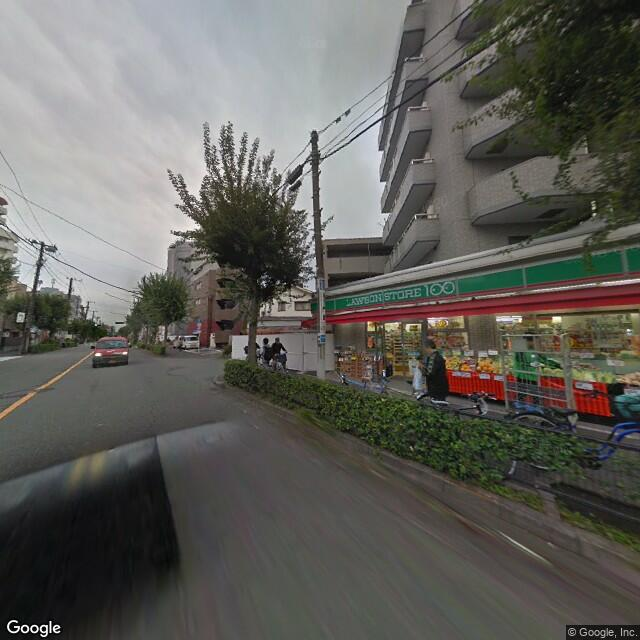lawson: (327, 239, 639, 318)
